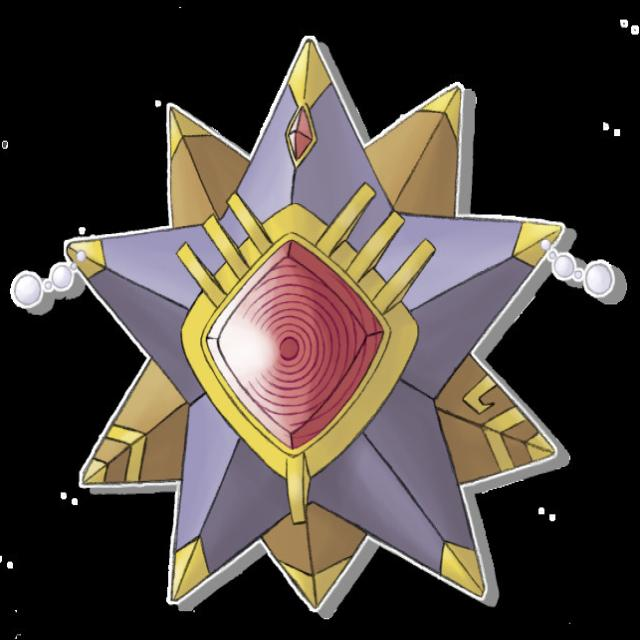Starmie: (55, 49, 608, 623)
